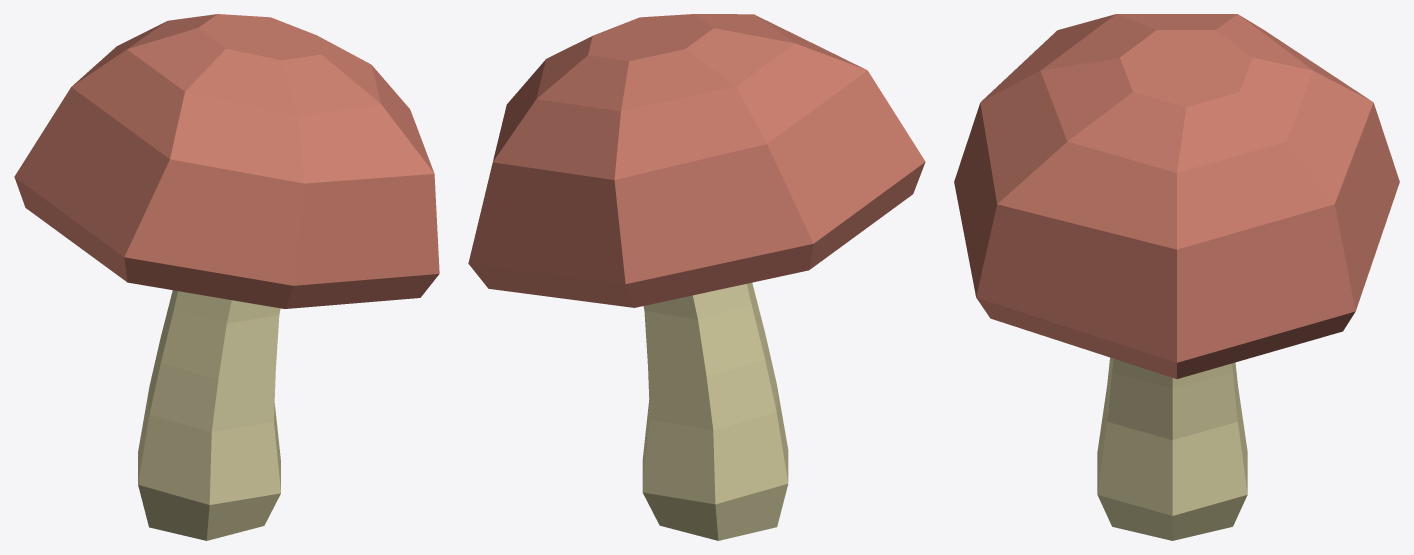
Rendered from SM_Mushroom1.fbx.
The picture shows the model from 3 angles, left to right: view 1: azimuth 30°, elevation 25°; view 2: azimuth 150°, elevation 25°; view 3: azimuth 270°, elevation 25°; orthographic projection. The views are drawn at different scales.
Parts seen in each view (by area): view 1: Mushroom1; view 2: Mushroom1; view 3: Mushroom1.
Boxes of the visible parts, x1,y1,x2,y2 form: Mushroom1: [14, 14, 439, 540]; Mushroom1: [468, 14, 925, 540]; Mushroom1: [954, 14, 1399, 540].
Bounding box in the file's own units: 10.48 × 12.62 × 10.41.
